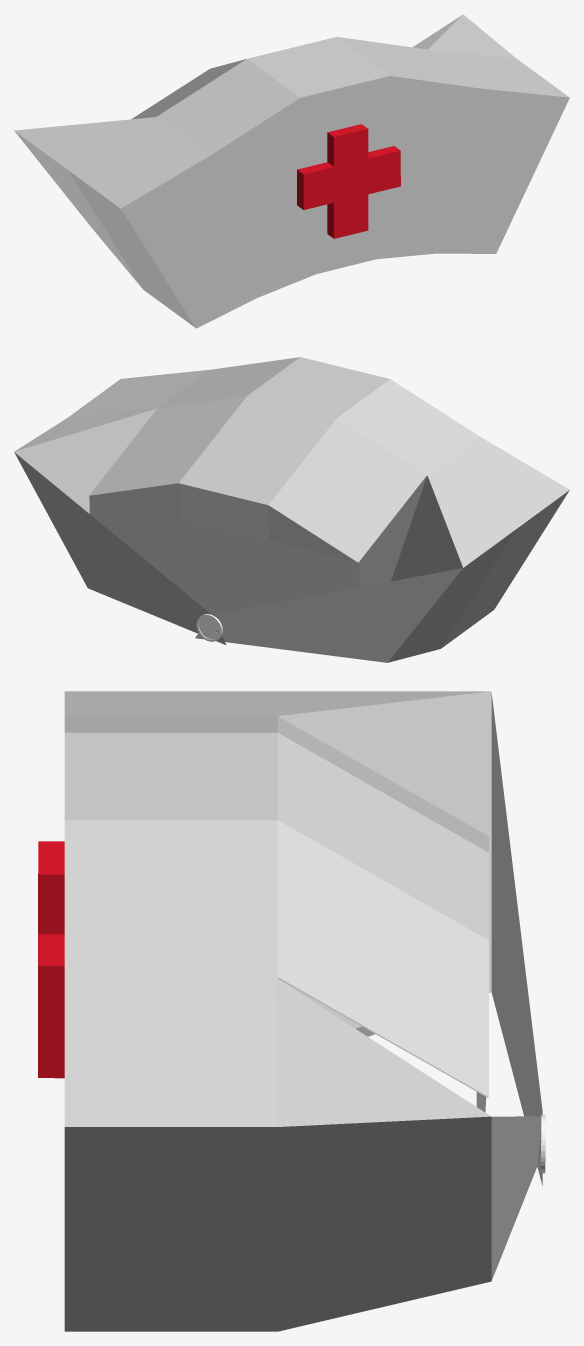
File: nikolle_rodriguez_gorro_irena_sendler (2).fbx
The picture shows the model from 3 angles, top to bottom: view 1: azimuth 30°, elevation 25°; view 2: azimuth 150°, elevation 25°; view 3: azimuth 270°, elevation 25°; orthographic projection. The views are drawn at different scales.
Visible parts, largest first — view 1: gorro, cruz enfermera; view 2: gorro, Boton; view 3: gorro, cruz enfermera.
Boxes of the visible parts, box(x1,y1,x2,y2) form: gorro: box(14, 14, 569, 328); cruz enfermera: box(297, 124, 400, 238); gorro: box(14, 357, 569, 662); Boton: box(196, 614, 222, 641); gorro: box(64, 691, 542, 1331); cruz enfermera: box(38, 841, 64, 1078).
Size of the model in its own units: 486 by 212 by 238.
